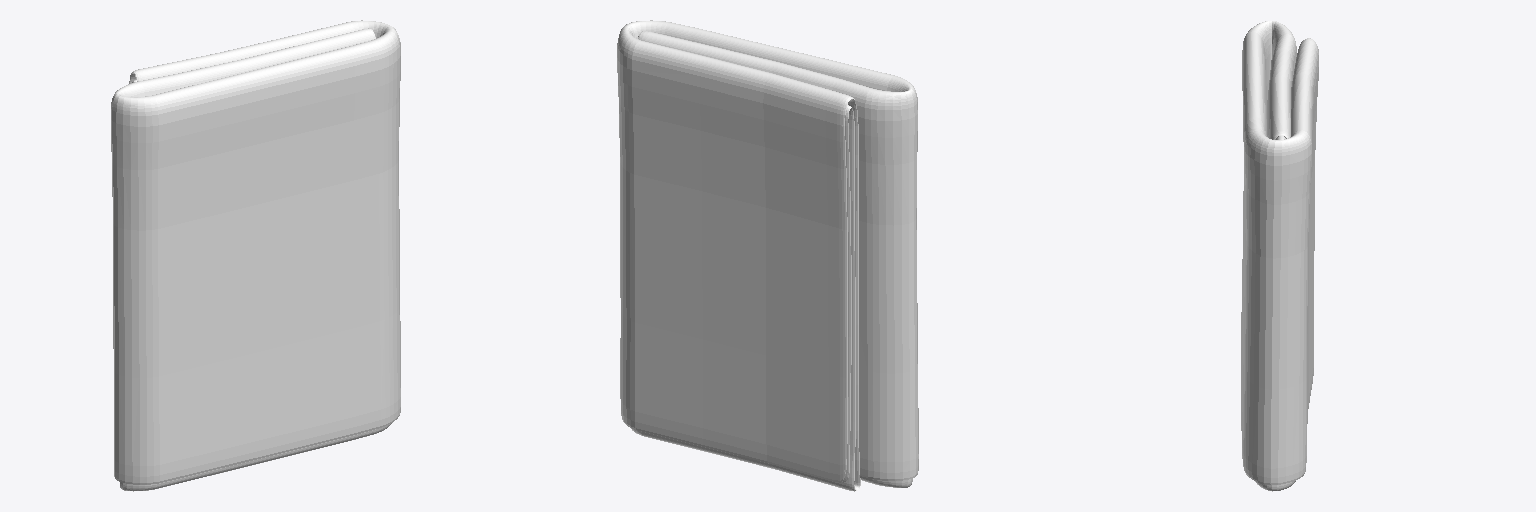
robot.urdf — model.urdf:
<robot name="model.urdf">
  <link name="baseLink">
    <contact>
      <friction_anchor/>
      <lateral_friction value="0.308"/>
      <spinning_friction value="0.001"/>
      <rolling_friction value="0.001"/>
      <contact_cfm value="0.0"/>
      <contact_erp value="1.0"/>
    </contact>
    <inertial>
       <origin rpy="0 0 0" xyz="0.0 0.0 0.0"/>
       <mass value=".0069"/>
       <inertia ixx="1e-3" ixy="0" ixz="0" iyy="1e-3" iyz="0" izz="1e-3"/>
    </inertial>
    <visual>
      <geometry>
        <mesh filename="fabric.obj" scale="1 1 1"/>
      </geometry>
      <material name="white">
        <color rgba="1 1 1 1"/>
      </material>
    </visual>
    <collision>
      <geometry>
        <mesh filename="fabric.obj" scale="1 1 1"/>
      </geometry>
    </collision>
  </link>
</robot>

--- What the picture shows (computed from the rendered views, not written in the file) ---
The picture shows the robot from 3 angles, left to right: view 1: azimuth 30°, elevation 25°; view 2: azimuth 150°, elevation 25°; view 3: azimuth 270°, elevation 25°; orthographic projection.
Model model.urdf with 1 links and 0 joints (none), rooted at baseLink, posed every joint at zero.
Links seen in each view (by area): view 1: baseLink; view 2: baseLink; view 3: baseLink.
Link boxes in pixels (x1,y1,x2,y2): baseLink: (111, 20, 400, 491); baseLink: (617, 20, 918, 491); baseLink: (1241, 21, 1318, 491).
Bounding box of the posed robot: 0.2778 × 0.0736 × 0.3638 m (x, y, z).
1 mesh visuals loaded from 1 distinct referenced files (1 OBJ).